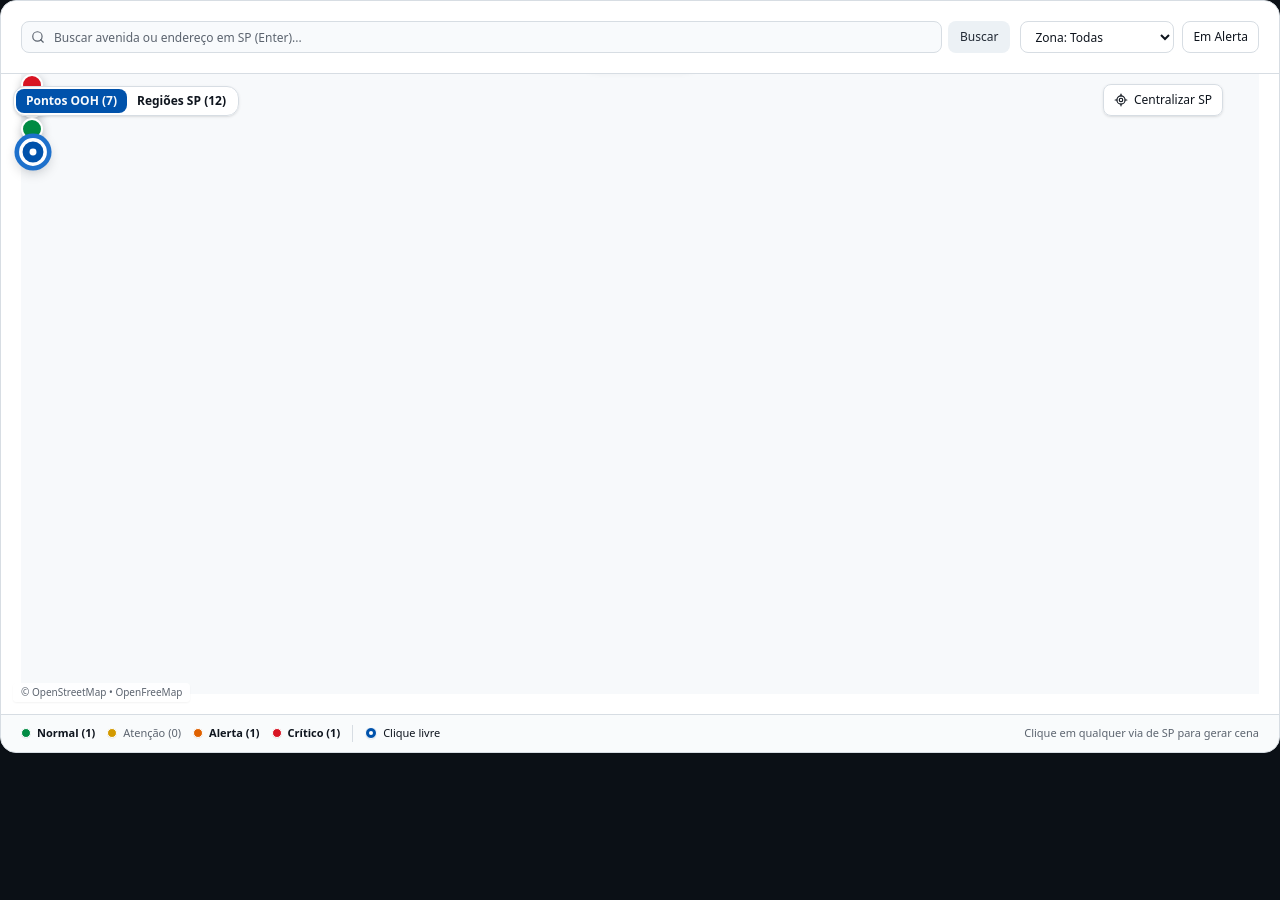
Test case: ExplorerMapPanel › shows selected micro-pill and opens/closes hover popup on OOH and free-click pins without native title
The image size is (1280, 900).
Note: Hovering an OOH asset opens the hover popup with neighborhood, score and severity
Hover over the button named "Av. Jornalista Roberto Marinho" at (32, 85), box [21, 74, 43, 96]
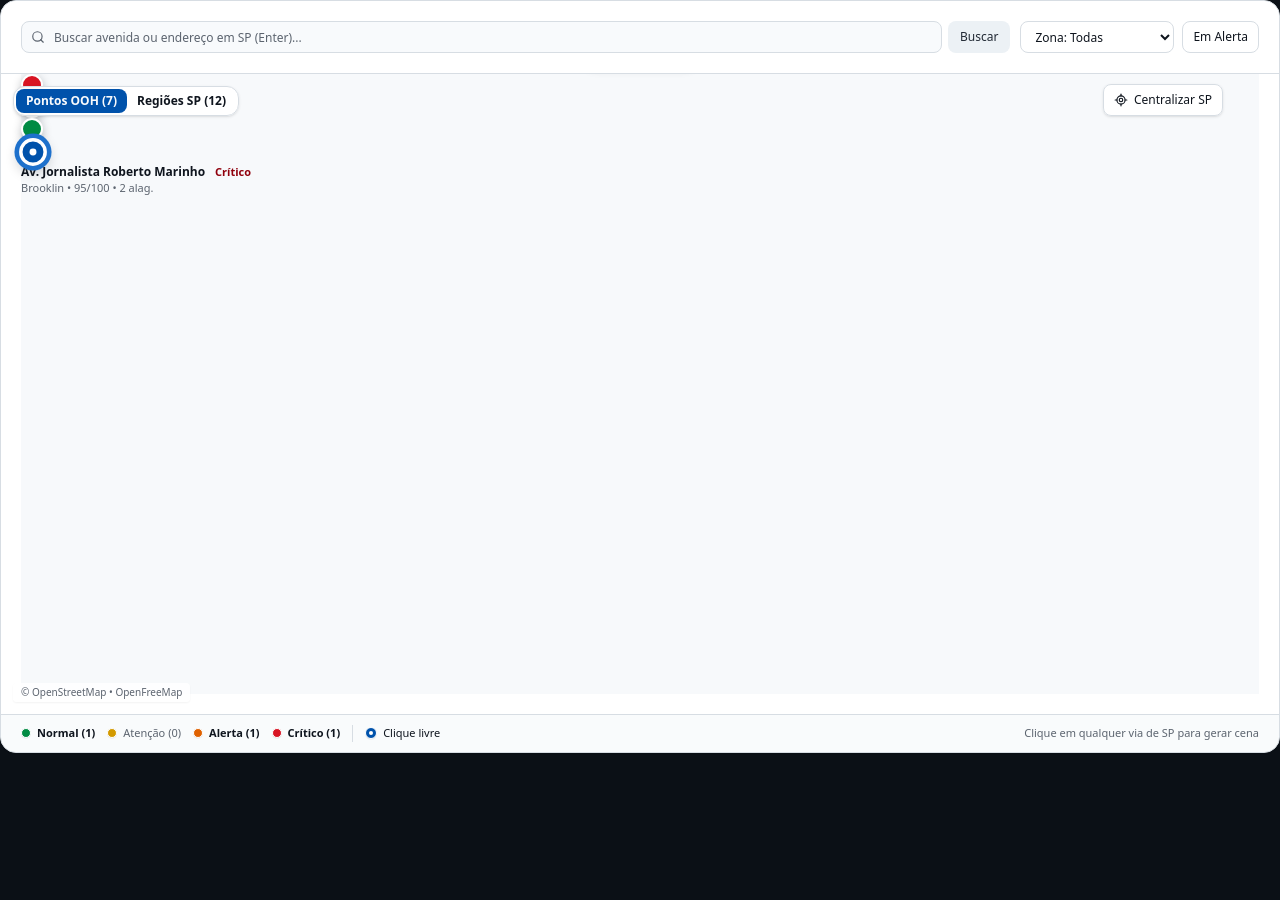
Expected: the element with class "ooh-map-hover-popup" is shown, [21, 163, 251, 195]
Expected: the element with class "ooh-map-hover-popup" shows "Av. Jornalista Roberto Marinho", [21, 163, 205, 180]
Expected: the element with class "ooh-map-hover-popup" shows "Brooklin • 95/100 • 2 alag.", [21, 180, 154, 195]
Note: Leaving closes the hover popup
Move the pointer off the button named "Av. Jornalista Roberto Marinho", box [21, 74, 43, 96]
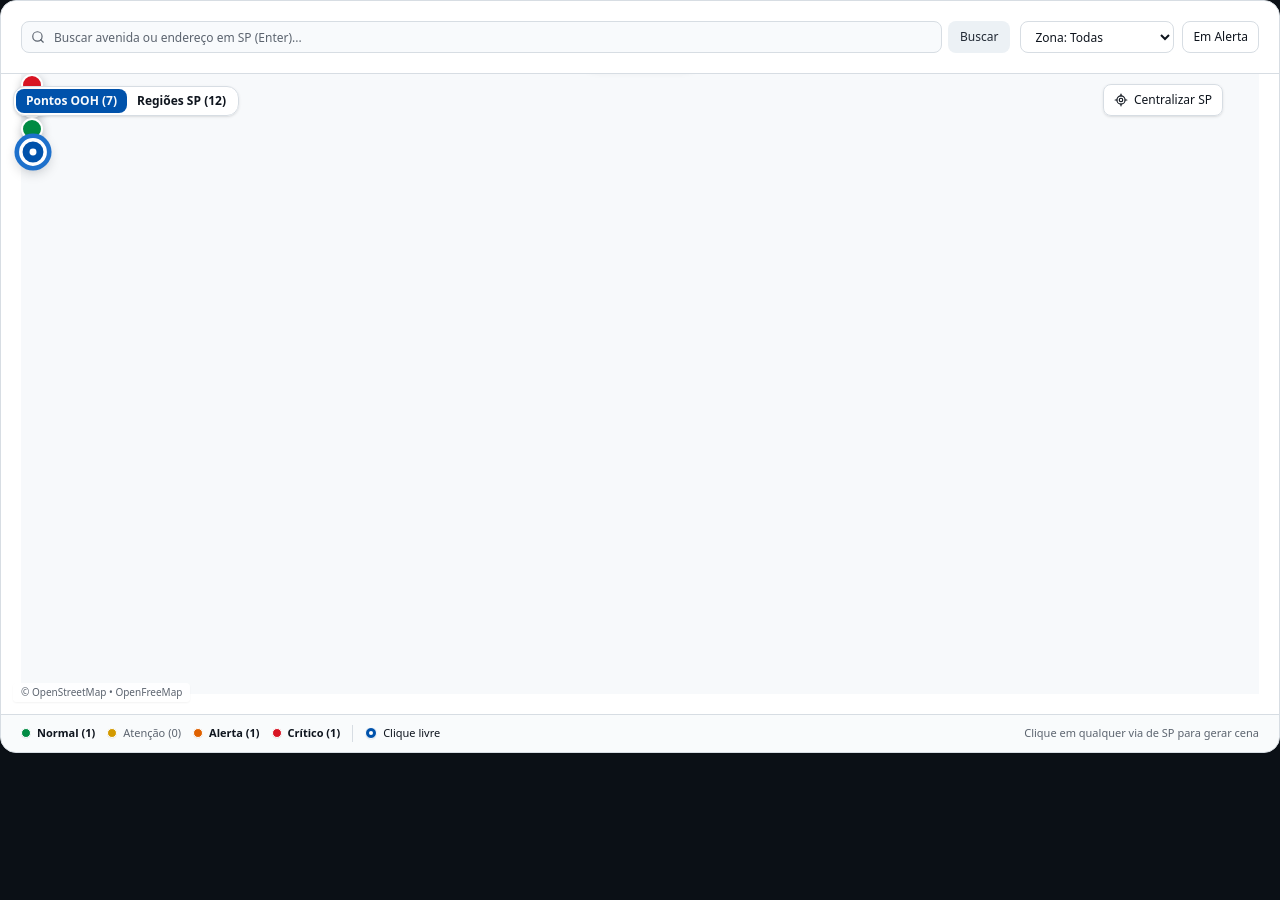
Expected: the element with class "ooh-map-hover-popup" is gone
Note: Hovering then clicking closes hover popup immediately and triggers selection
Hover over the button named "Av. Jornalista Roberto Marinho" at (32, 85), box [21, 74, 43, 96]
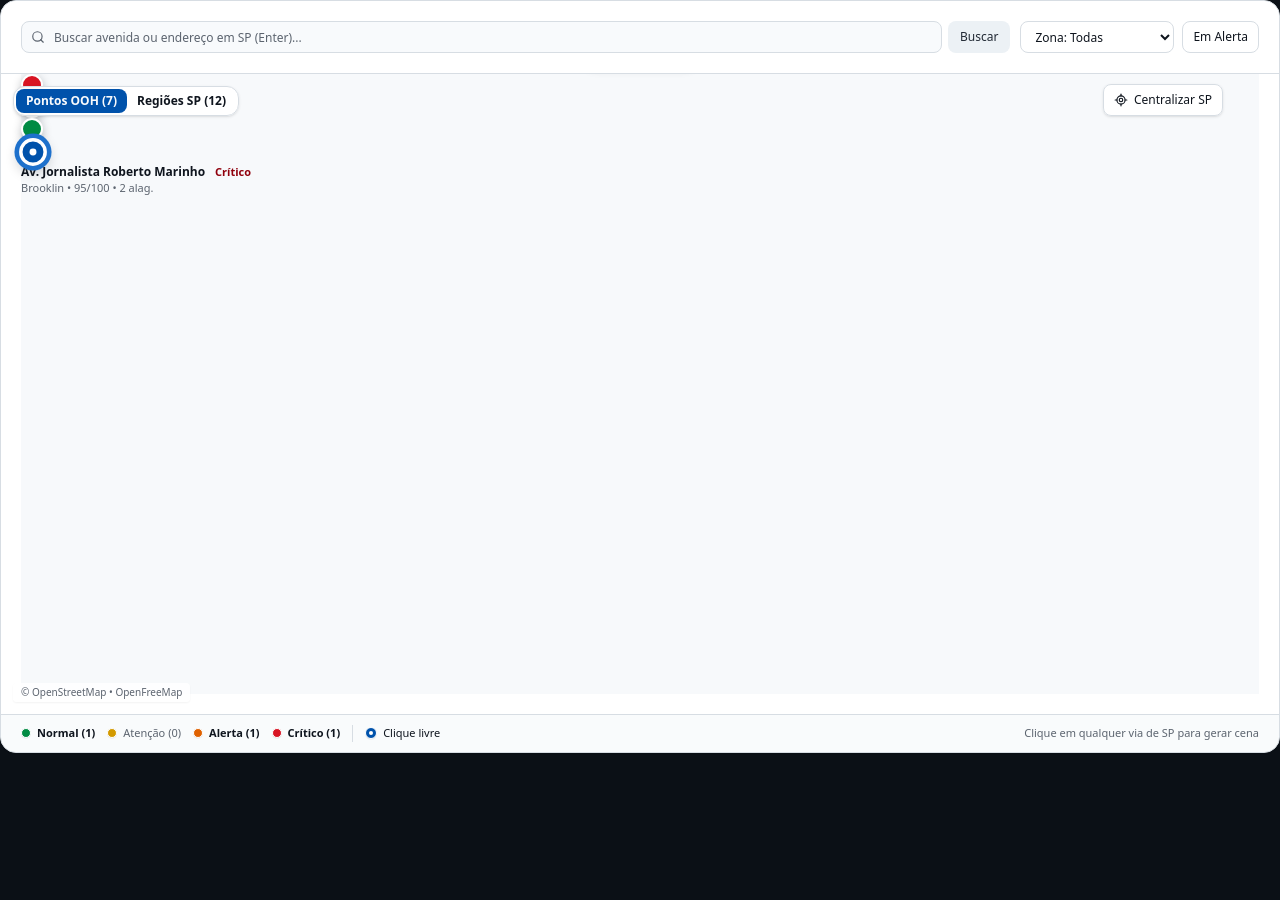
Expected: the element with class "ooh-map-hover-popup" is shown, [21, 163, 251, 195]
Click the button named "Av. Jornalista Roberto Marinho" at (32, 85), box [21, 74, 43, 96]
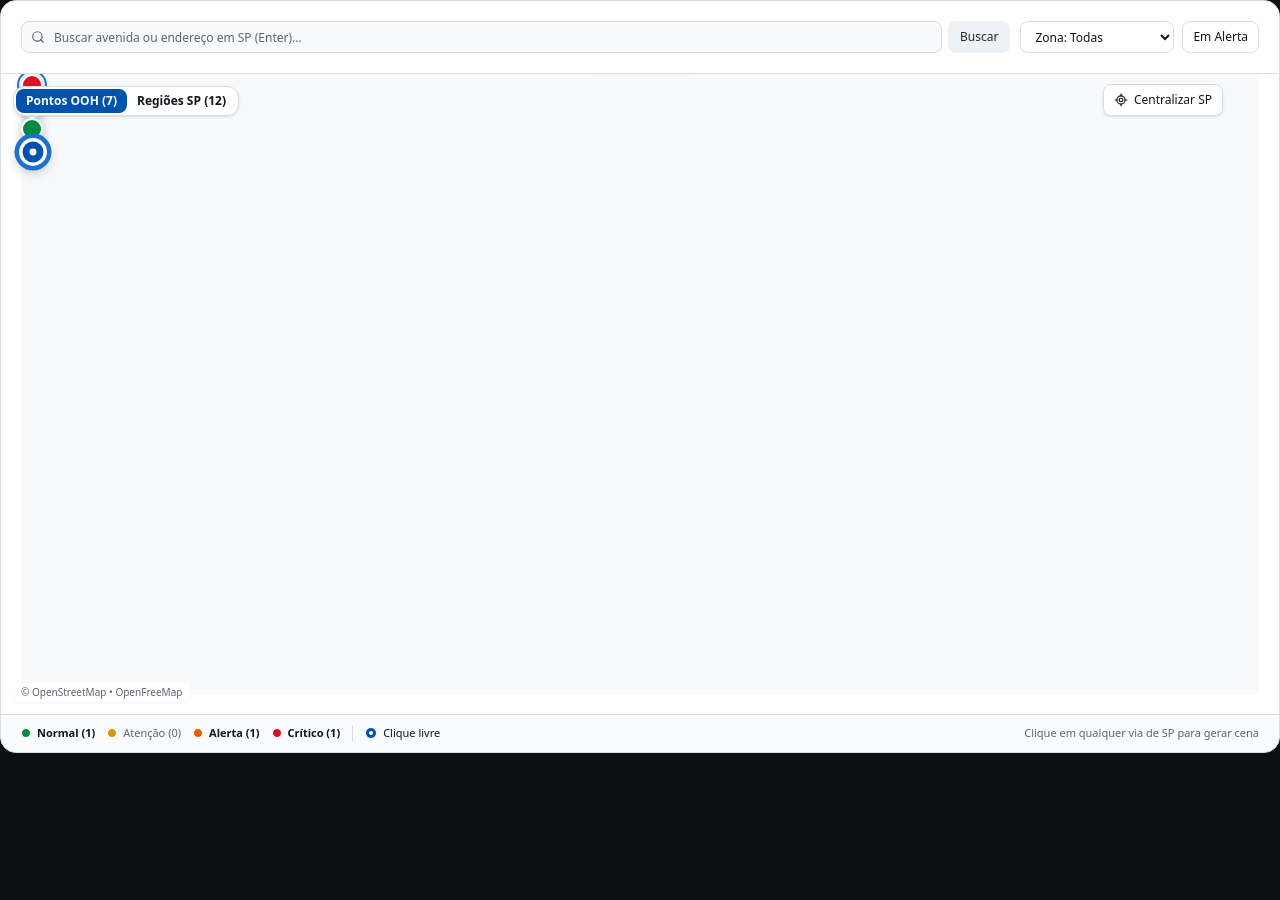
Expected: the element with class "ooh-map-hover-popup" is gone
Hover over the button with class "ooh-map-marker-root--custom" at (33, 152), box [21, 140, 45, 164]
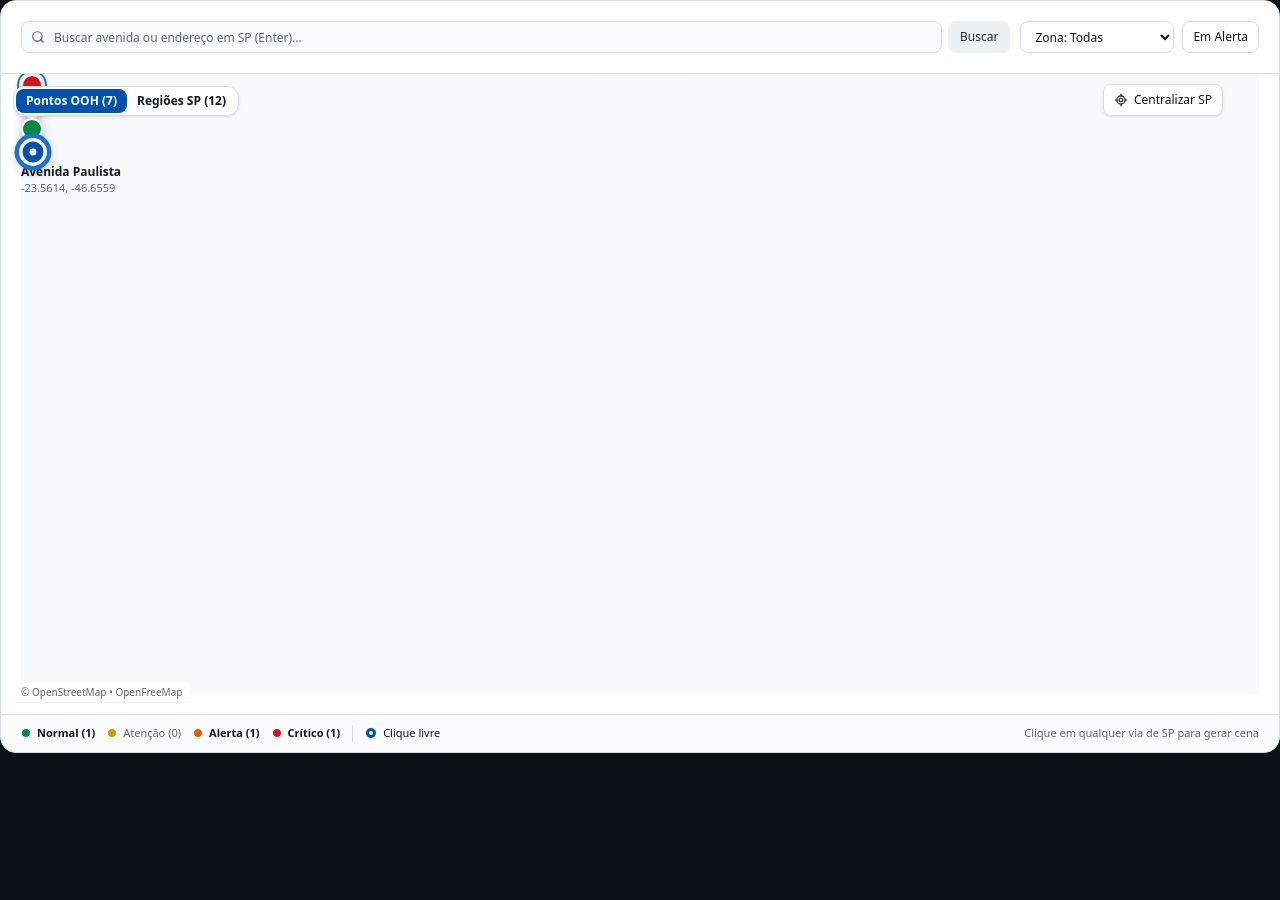
Expected: the element with class "ooh-map-hover-popup" shows "Avenida Paulista", [21, 163, 121, 180]
Expected: the element with class "ooh-map-hover-popup" shows "-23.5614, -46.6559", [21, 180, 115, 195]
